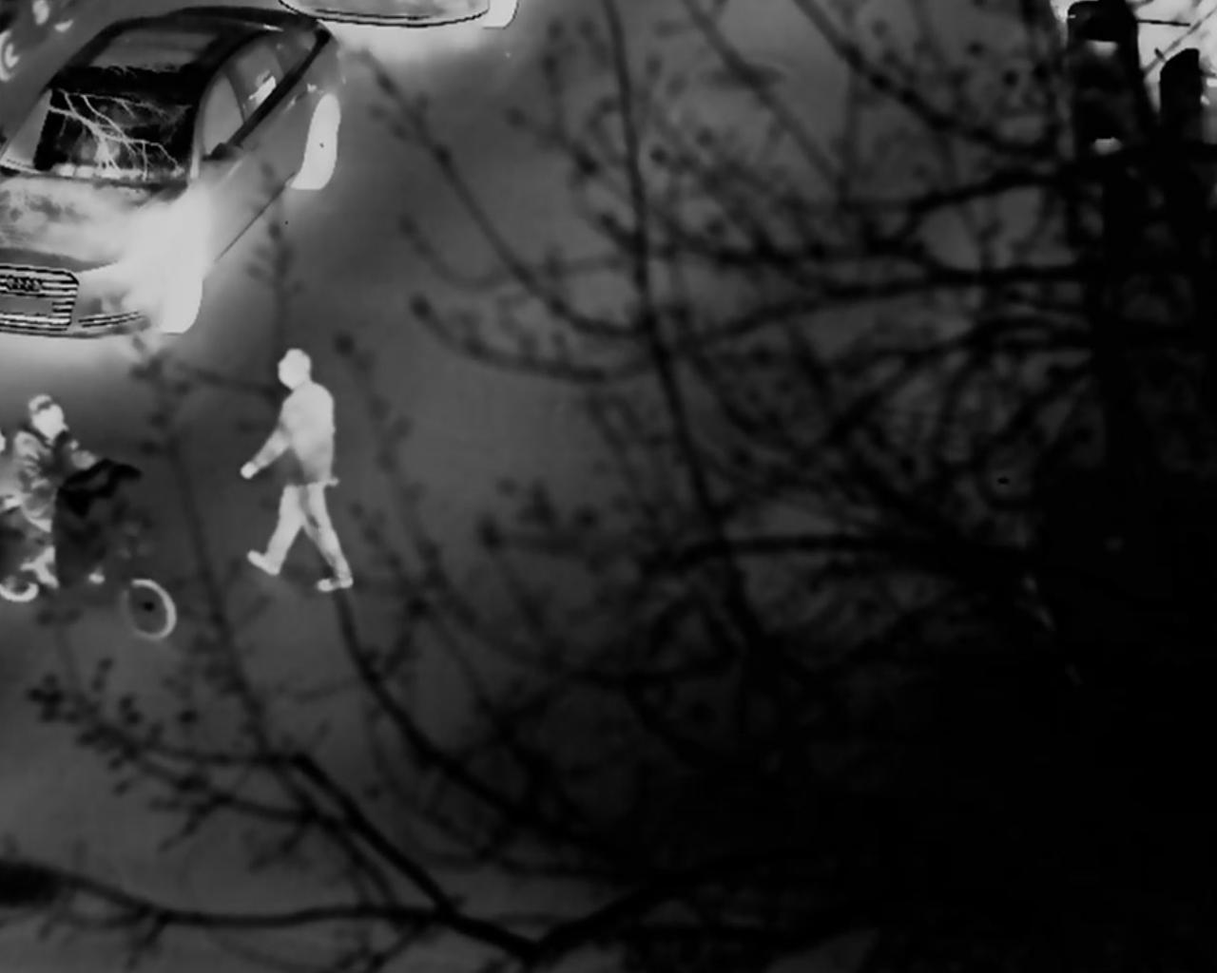person: (251, 345, 355, 586), (4, 390, 84, 590)
